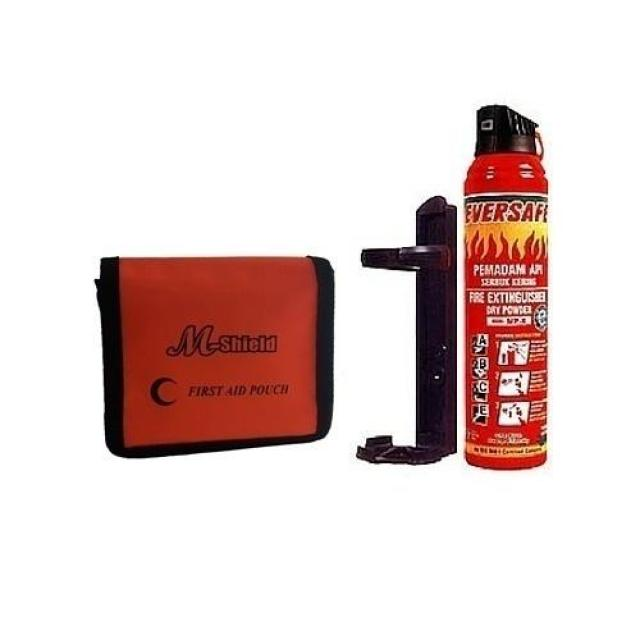fire_extinguisher: (452, 97, 554, 471)
